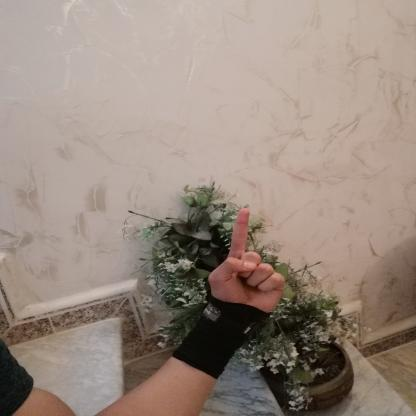BAA: (190, 200, 295, 328)
